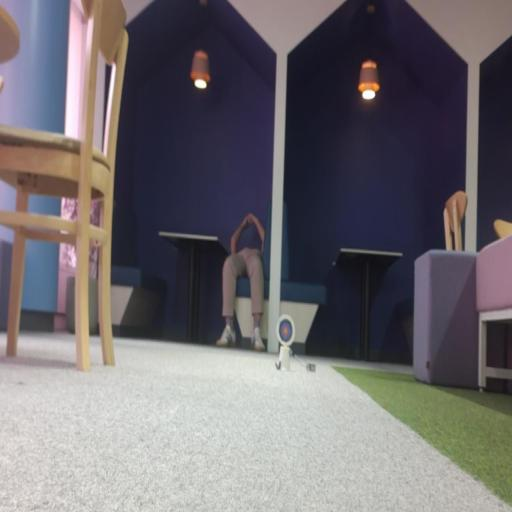target: (277, 314, 295, 346)
